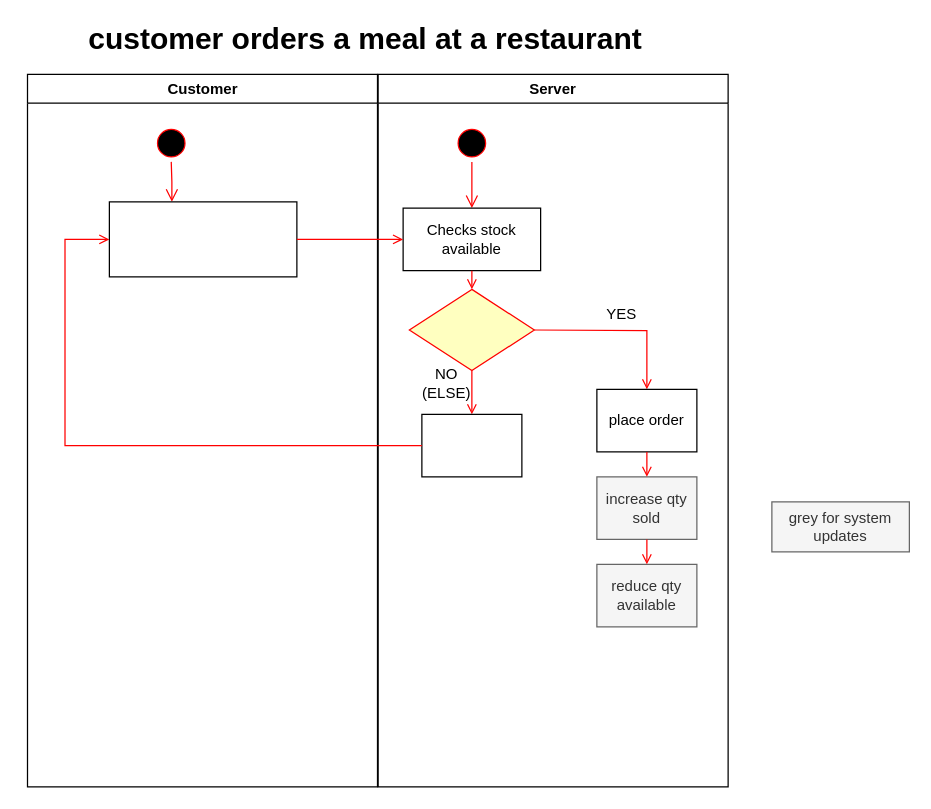
Image size: 931x809. Some labels were removed from this diagram. Here are the shapes that lost their labels. From the top down, the centre of each, then its label:
(x=202, y=239): informs the server what they want to order
(x=471, y=329): meal avaialble
(x=471, y=445): suggest alternative
